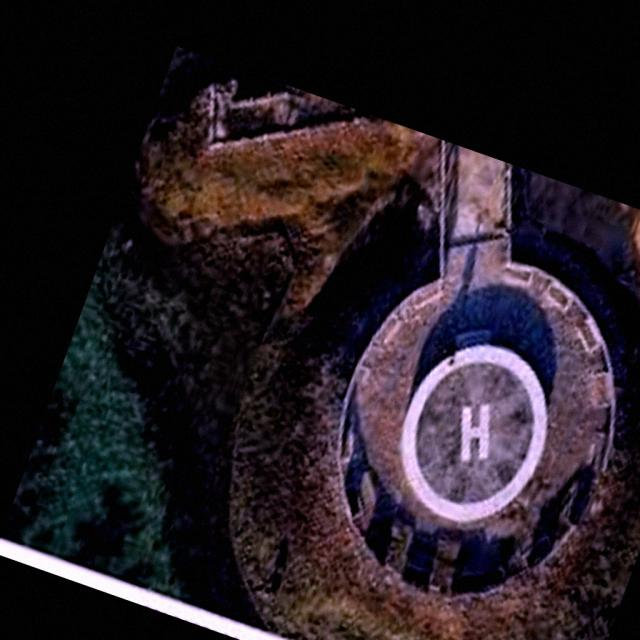helipad: (396, 341, 552, 524)
